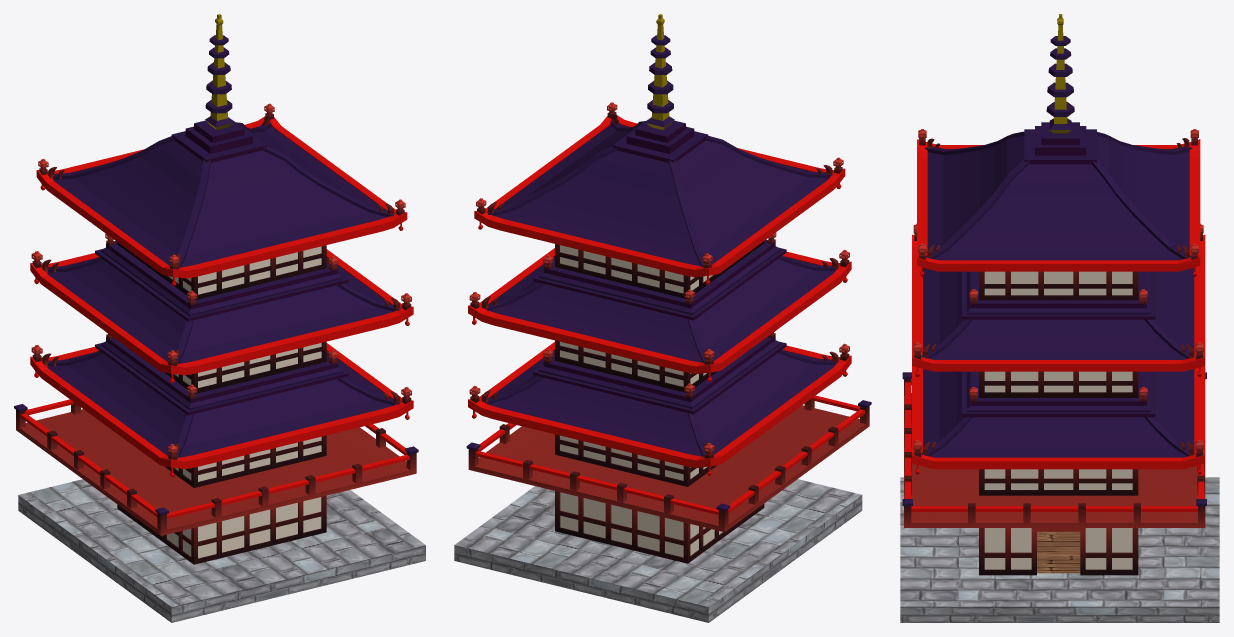
File: Raven_Pagoda_Final.fbx
The picture shows the model from 3 angles, left to right: view 1: azimuth 30°, elevation 25°; view 2: azimuth 150°, elevation 25°; view 3: azimuth 270°, elevation 25°; orthographic projection. The views are drawn at different scales.
Parts seen in each view (by area): view 1: Cube.022, Cube.035, Cube.031, Cube.015, Cube.008, Cube.021, Cube.014, Cube.030, Cube.002, Cube.010, Cube.023, Cube.003 (+15 smaller); view 2: Cube.022, Cube.035, Cube.031, Cube.015, Cube.008, Cube.021, Cube.014, Cube.030, Cube.002, Cube.010, Cube.023, Cube.003 (+15 smaller); view 3: Cube.022, Cube.035, Cube.031, Cube.015, Cube.008, Cube.021, Cube.030, Cube.014, Cube.002, Cube.023, Cube.013, Cube.003 (+16 smaller).
Part boxes in pixels (<box>): Cube.022: <box>53,14,386,267</box>; Cube.035: <box>18,479,425,622</box>; Cube.031: <box>47,241,392,363</box>; Cube.015: <box>47,337,392,457</box>; Cube.008: <box>14,402,418,535</box>; Cube.021: <box>36,116,407,286</box>; Cube.014: <box>30,343,413,477</box>; Cube.030: <box>30,249,413,383</box>; Cube.002: <box>167,497,321,558</box>; Cube.010: <box>20,399,409,518</box>; Cube.023: <box>49,122,394,267</box>; Cube.003: <box>117,495,326,564</box>; Cube.022: <box>495,14,828,266</box>; Cube.035: <box>454,479,862,622</box>; Cube.031: <box>488,239,834,362</box>; Cube.015: <box>488,336,834,456</box>; Cube.008: <box>466,398,871,532</box>; Cube.021: <box>474,115,845,284</box>; Cube.014: <box>468,342,851,476</box>; Cube.030: <box>468,248,851,382</box>; Cube.002: <box>560,492,722,557</box>; Cube.010: <box>475,395,864,514</box>; Cube.023: <box>487,121,832,266</box>; Cube.003: <box>555,491,764,563</box>; Cube.022: <box>927,14,1189,260</box>; Cube.035: <box>900,477,1219,622</box>; Cube.031: <box>923,267,1194,359</box>; Cube.015: <box>923,369,1194,457</box>; Cube.008: <box>902,372,1206,527</box>; Cube.021: <box>917,139,1200,276</box>; Cube.030: <box>912,234,1205,376</box>; Cube.014: <box>912,366,1205,474</box>; Cube.002: <box>984,528,1132,569</box>; Cube.023: <box>924,131,1192,259</box>; Cube.013: <box>984,271,1132,295</box>; Cube.003: <box>979,528,1138,575</box>.
Size of the model in its own units: 1548 by 2913 by 1554.
11 materials, 4 textured.
